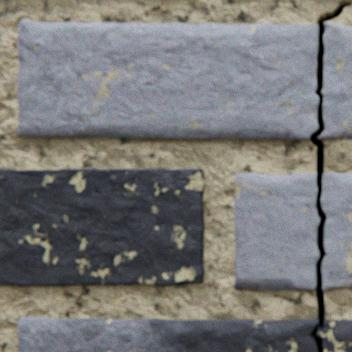brick: (0, 168, 205, 285)
broken_brick: (19, 21, 318, 139), (19, 316, 318, 351), (235, 173, 319, 289), (318, 23, 351, 139), (321, 173, 351, 289), (317, 318, 351, 351)
crack: (309, 0, 351, 351)
